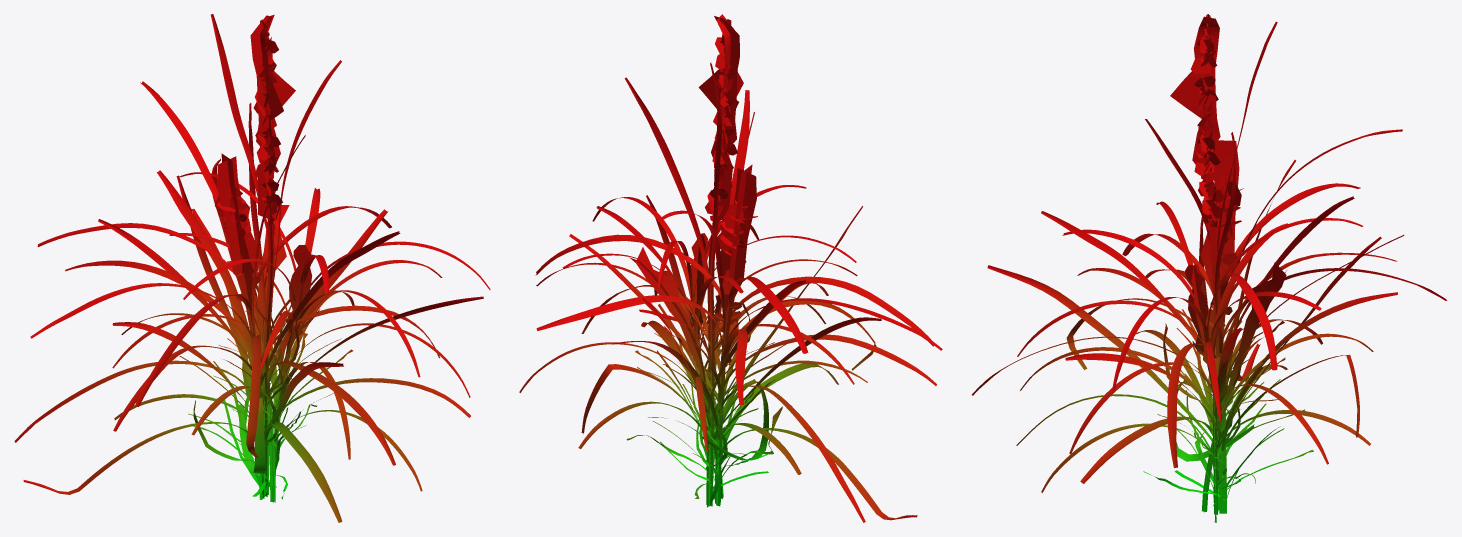
The model's file is Var3_LOD0.fbx.
3 views of the same model, side by side, from view 1: azimuth 30°, elevation 25°; view 2: azimuth 150°, elevation 25°; view 3: azimuth 270°, elevation 25° (orthographic). The views are drawn at different scales.
Parts seen in each view (by area): view 1: _ea16_Var3_LOD0; view 2: _ea16_Var3_LOD0; view 3: _ea16_Var3_LOD0.
Part boxes in pixels (x1=…): _ea16_Var3_LOD0: x1=14, y1=14, x2=490, y2=522; _ea16_Var3_LOD0: x1=519, y1=14, x2=942, y2=522; _ea16_Var3_LOD0: x1=972, y1=14, x2=1447, y2=522.
Size of the model in its own units: 33.74 by 38.82 by 33.4.
